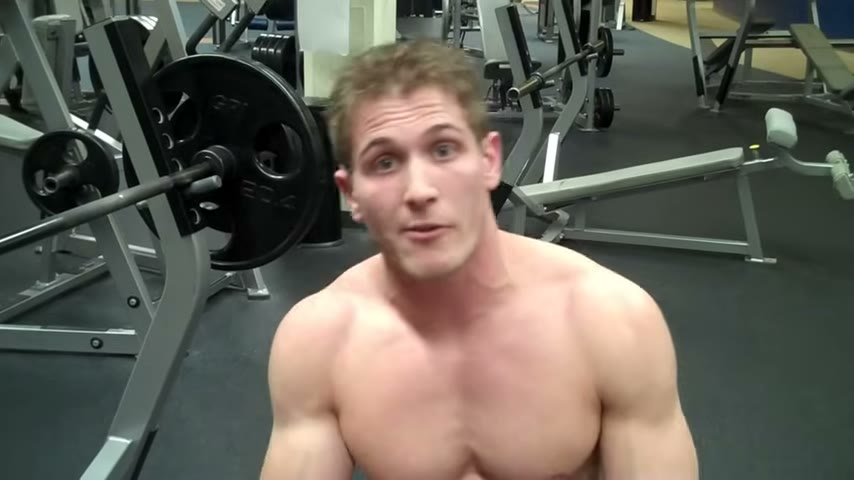barbell_plate_side: (230, 10, 362, 469)
